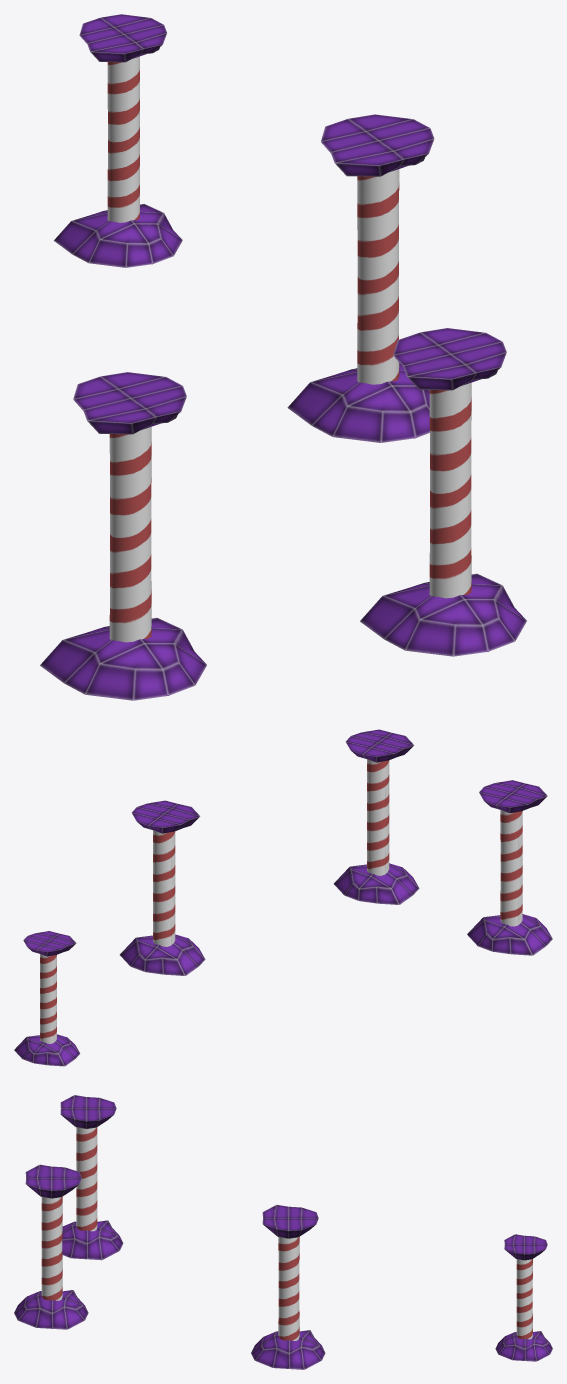
Rendered from m_candyPillars_je_4.fbx.
The picture shows the model from 3 angles, top to bottom: view 1: azimuth 30°, elevation 25°; view 2: azimuth 150°, elevation 25°; view 3: azimuth 270°, elevation 25°; orthographic projection. The views are drawn at different scales.
Parts seen in each view (by area): view 1: polySurface283; view 2: polySurface283; view 3: polySurface283.
Boxes of the visible parts, box(x1,y1,x2,y2) form: polySurface283: box(40, 14, 526, 700); polySurface283: box(14, 729, 552, 1066); polySurface283: box(14, 1095, 552, 1369).
Size of the model in its own units: 5178 by 2289 by 8278.
